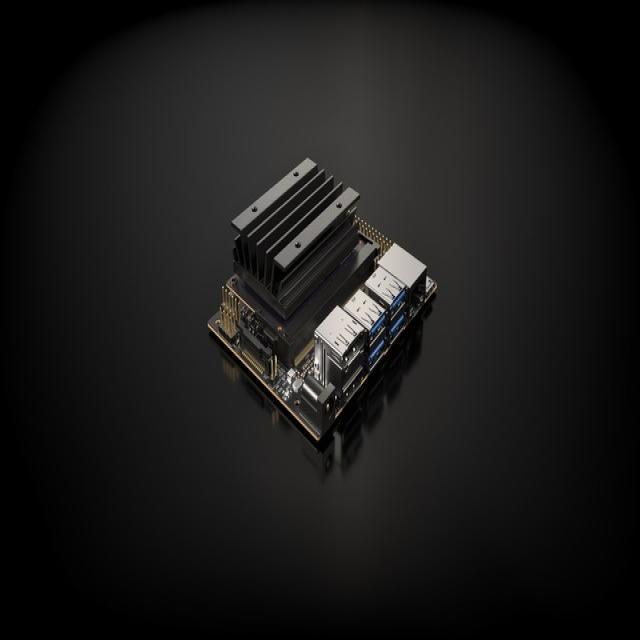Jetson Nano: (206, 159, 438, 444)
